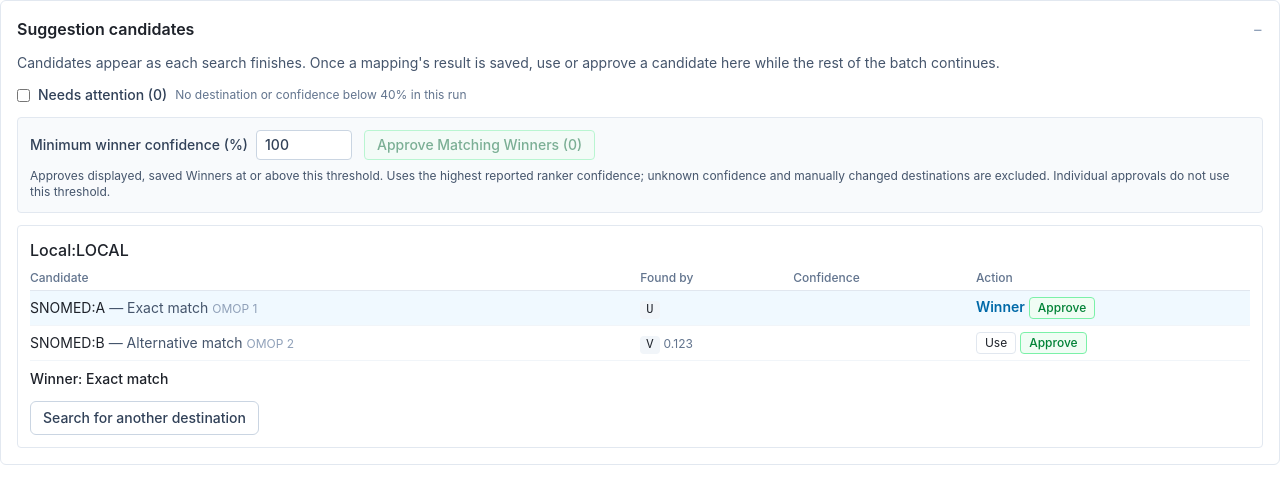
Test case: approve from suggest results › approves the winner with a single click
Click the button with aria-label "Approve Exact match for LOCAL" at (1062, 308), box left=1029, top=297, right=1095, bottom=319
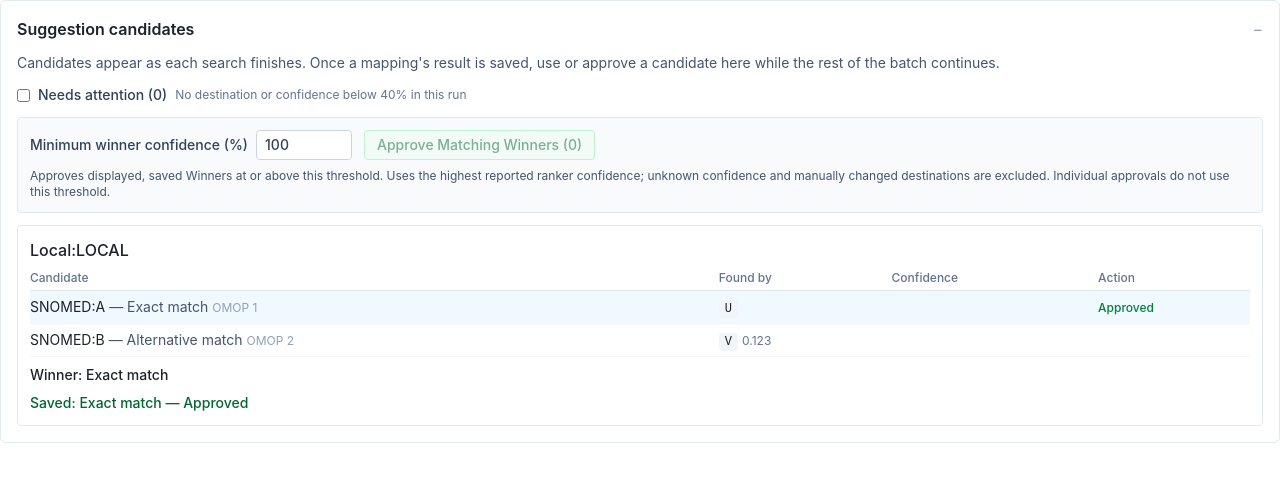
Expected: the text "Approved" is shown, left=1098, top=300, right=1154, bottom=315
